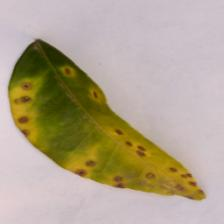canker: (9, 76, 224, 202)
